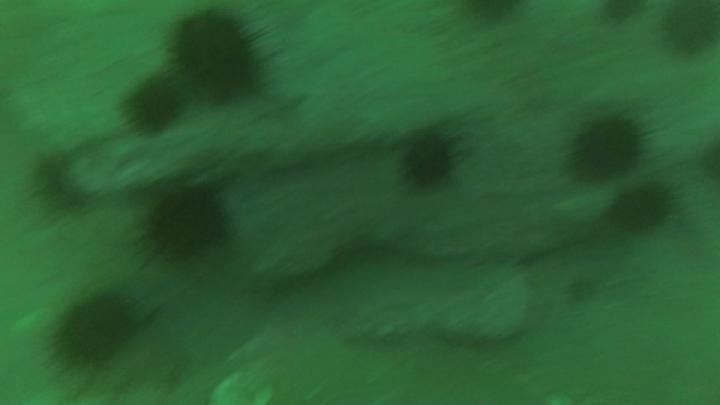echinus: (167, 9, 267, 102), (141, 183, 231, 265), (52, 290, 140, 370), (566, 111, 649, 185), (396, 126, 462, 193), (121, 73, 187, 137), (31, 150, 90, 215), (608, 179, 676, 235), (659, 1, 719, 59), (455, 1, 529, 29), (596, 0, 648, 27)
